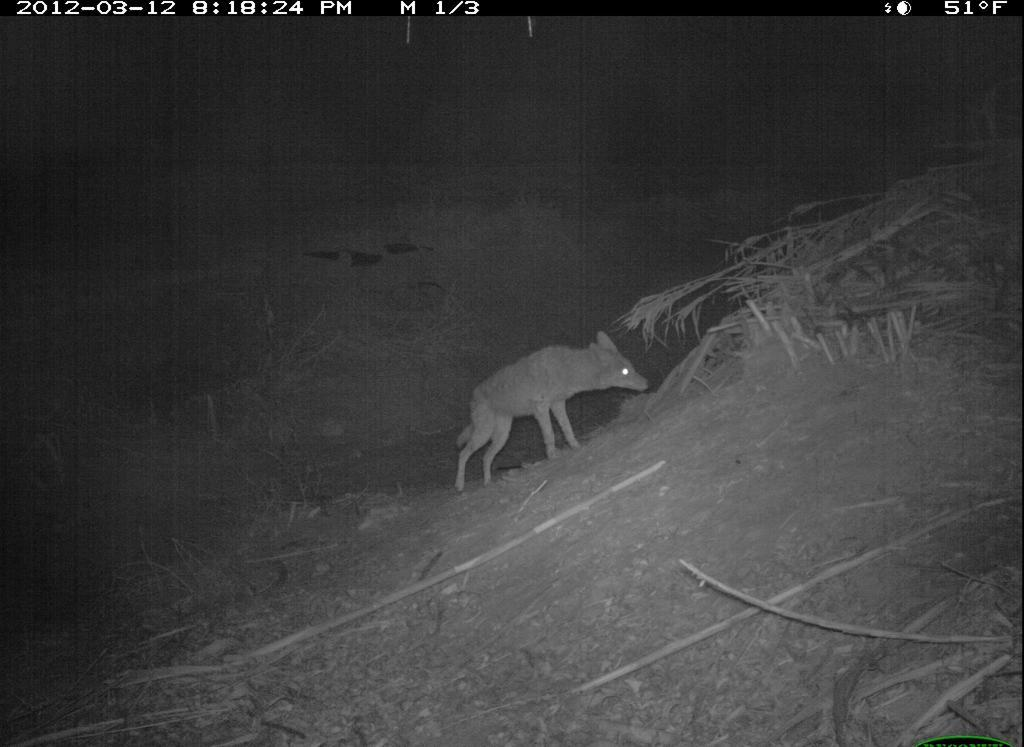coyote: (441, 322, 661, 506)
